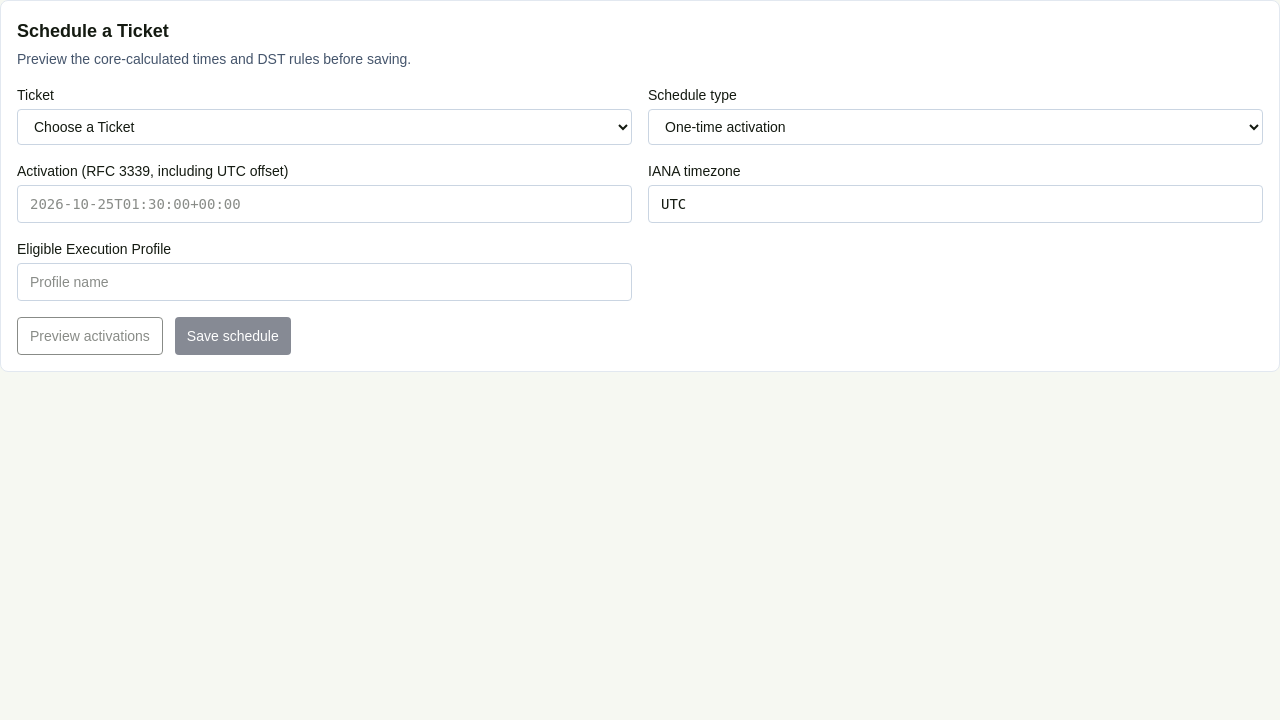
Test: schedule-editor › saves the previewed schedule with the current Ticket version
Select "CORE-T19 — Archive expired logs" in the dropdown with test id "schedule-ticket" at (324, 127), box x1=17 y1=109 x2=632 y2=145
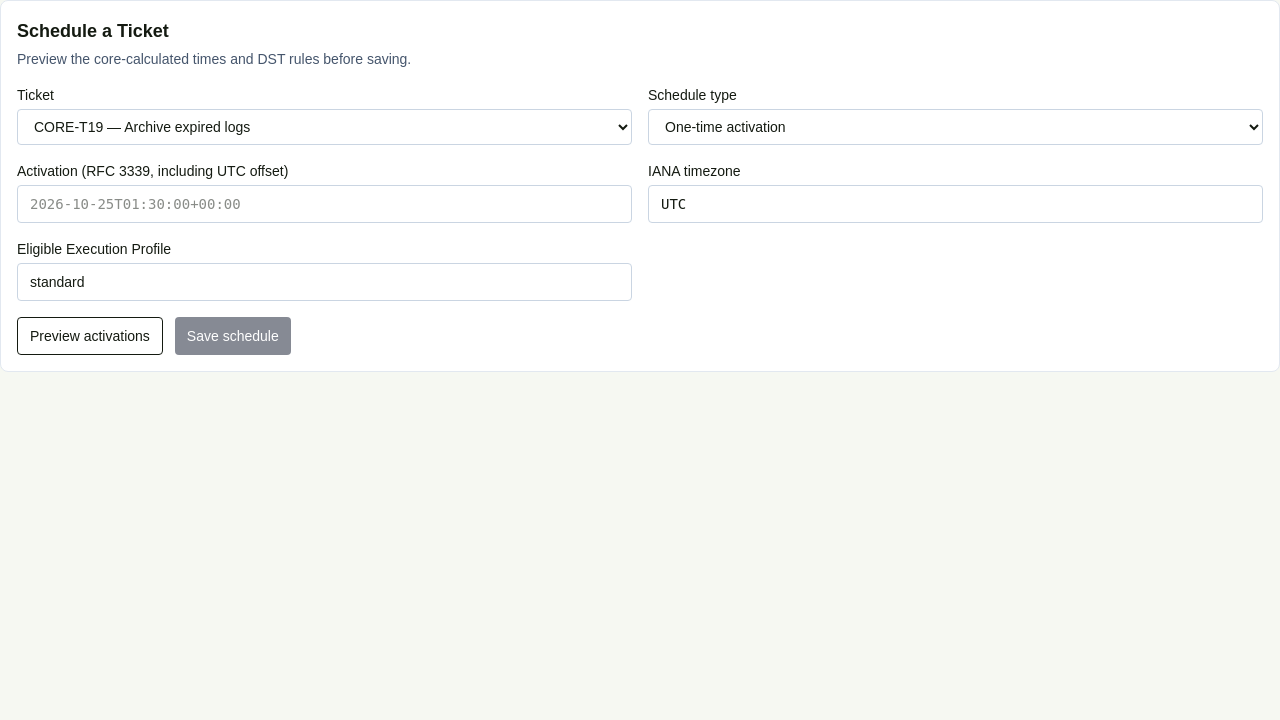
Select "Recurring Task" in the dropdown with test id "schedule-mode" at (956, 127), box x1=648 y1=109 x2=1263 y2=145
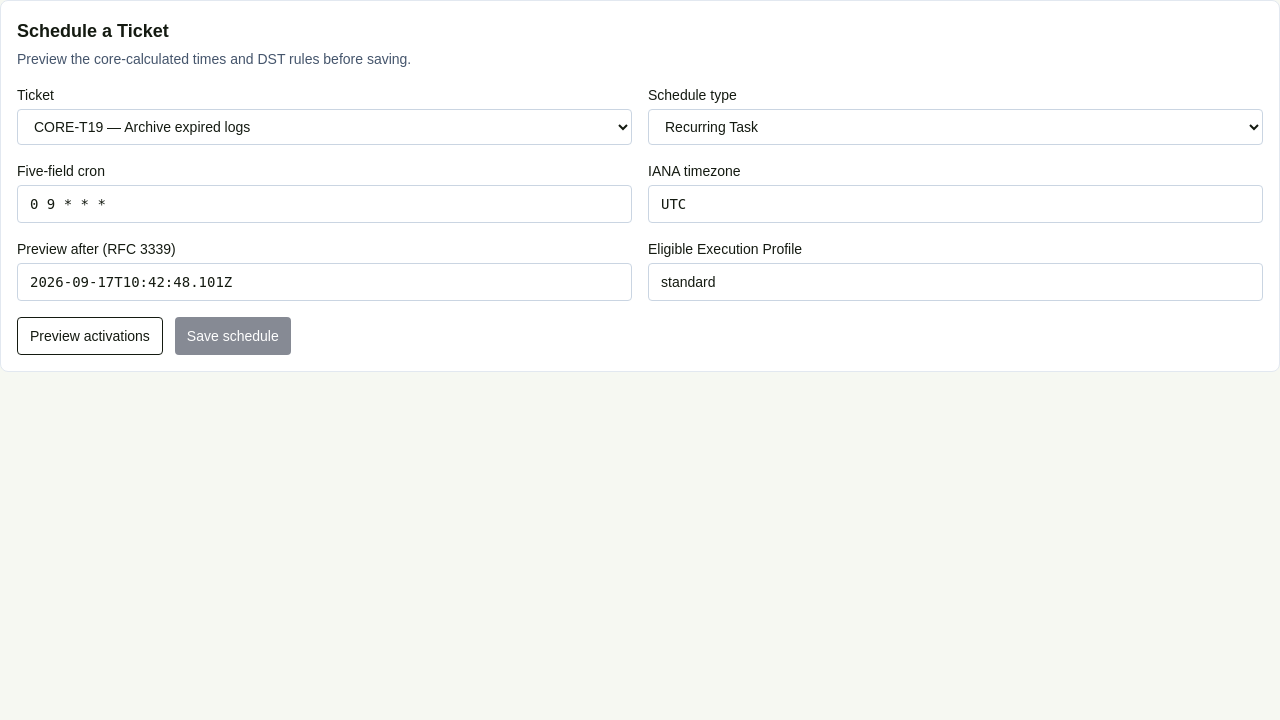
Type "30 1 * * *" into the field with test id "schedule-cron".
click(324, 204); type("30 1 * * *")  # box x1=17 y1=185 x2=632 y2=223
Replace the text in the field with test id "schedule-timezone" with "Europe/London" at (956, 204), box x1=648 y1=185 x2=1263 y2=223
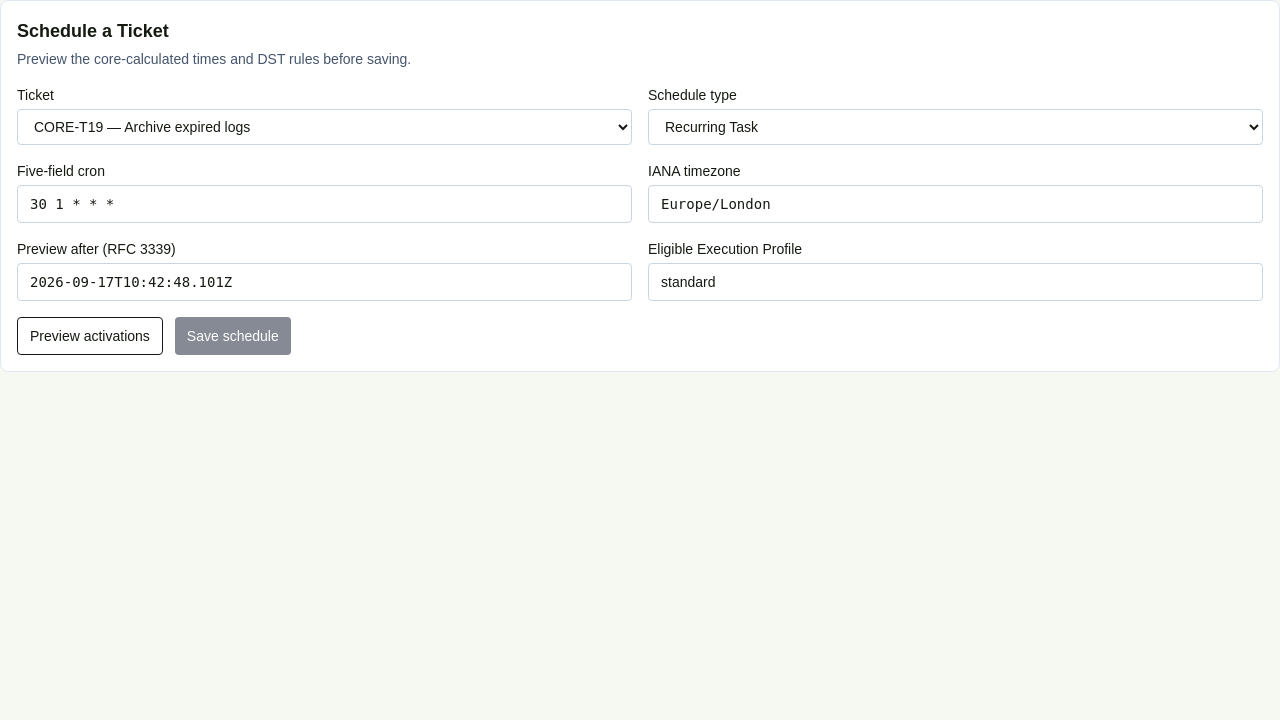
Replace the text in the field with test id "schedule-after" with "2026-03-28T23:00:00Z" at (324, 282), box x1=17 y1=263 x2=632 y2=301
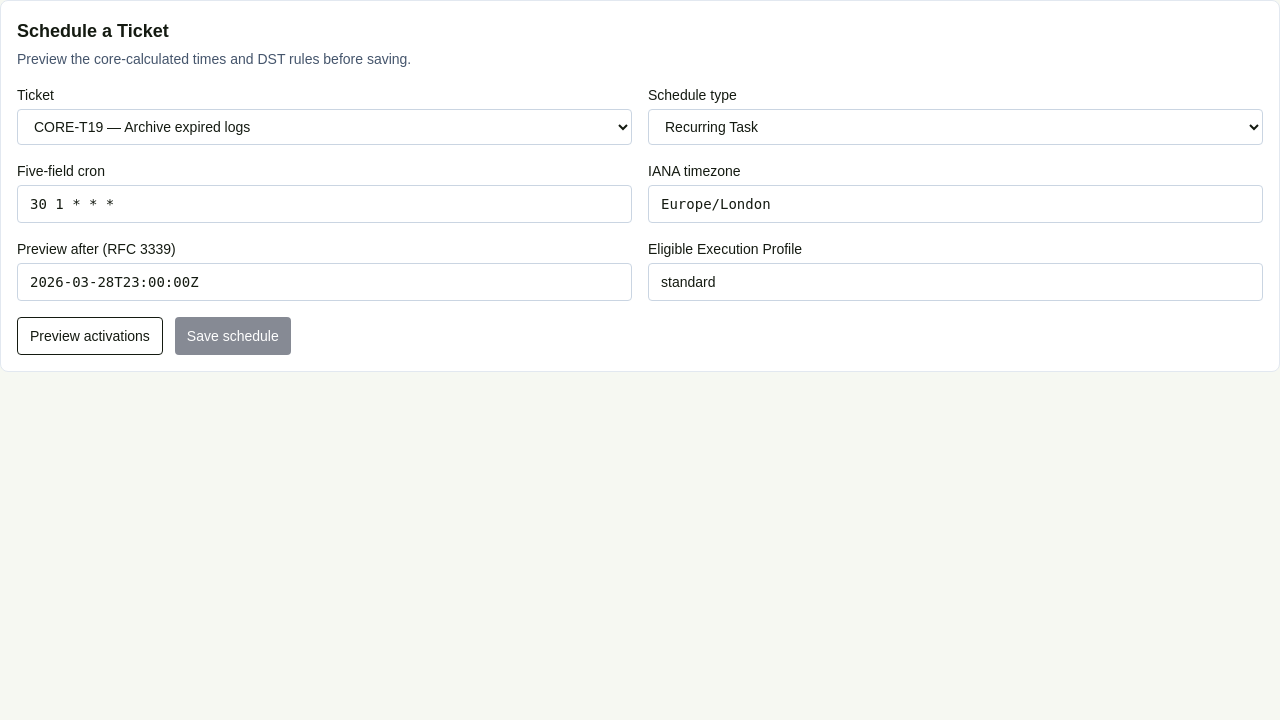
Click the button with test id "schedule-preview".
click(90, 336)  # box x1=17 y1=317 x2=163 y2=355
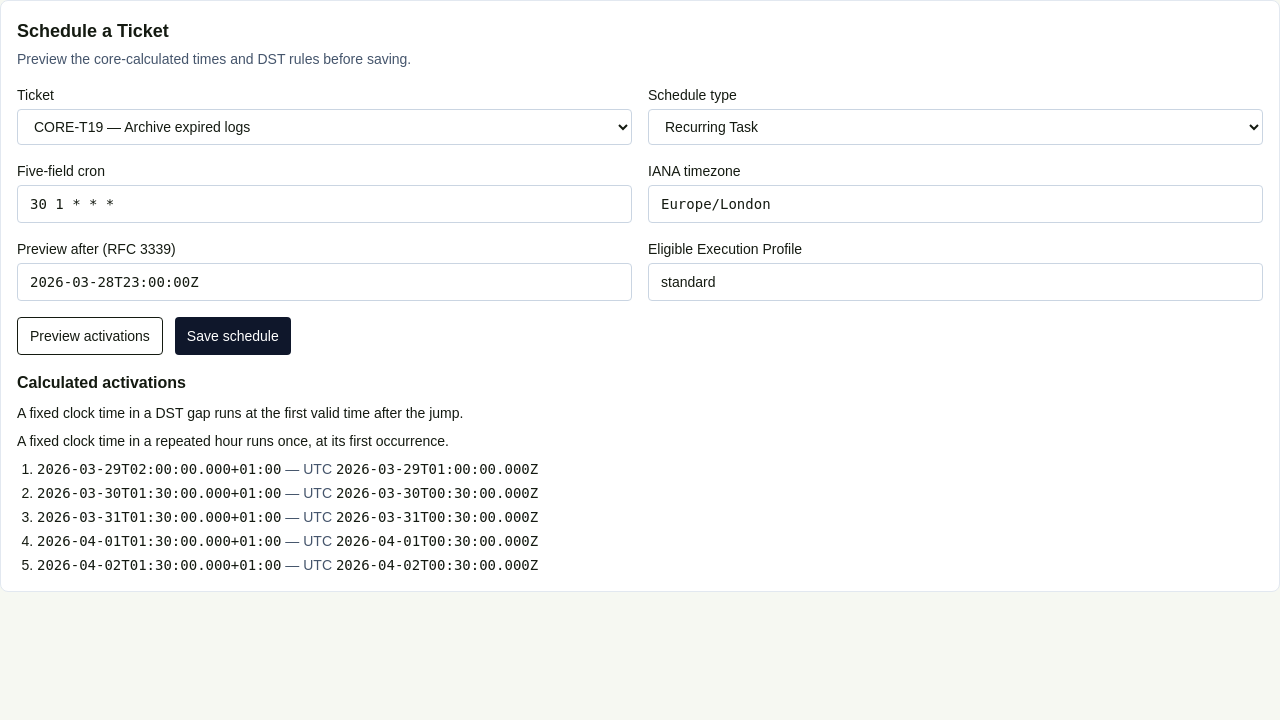
Now the button with test id "schedule-save" is enabled, box x1=175 y1=317 x2=291 y2=355
Submit the form with test id "schedule-form", box x1=17 y1=85 x2=1263 y2=355
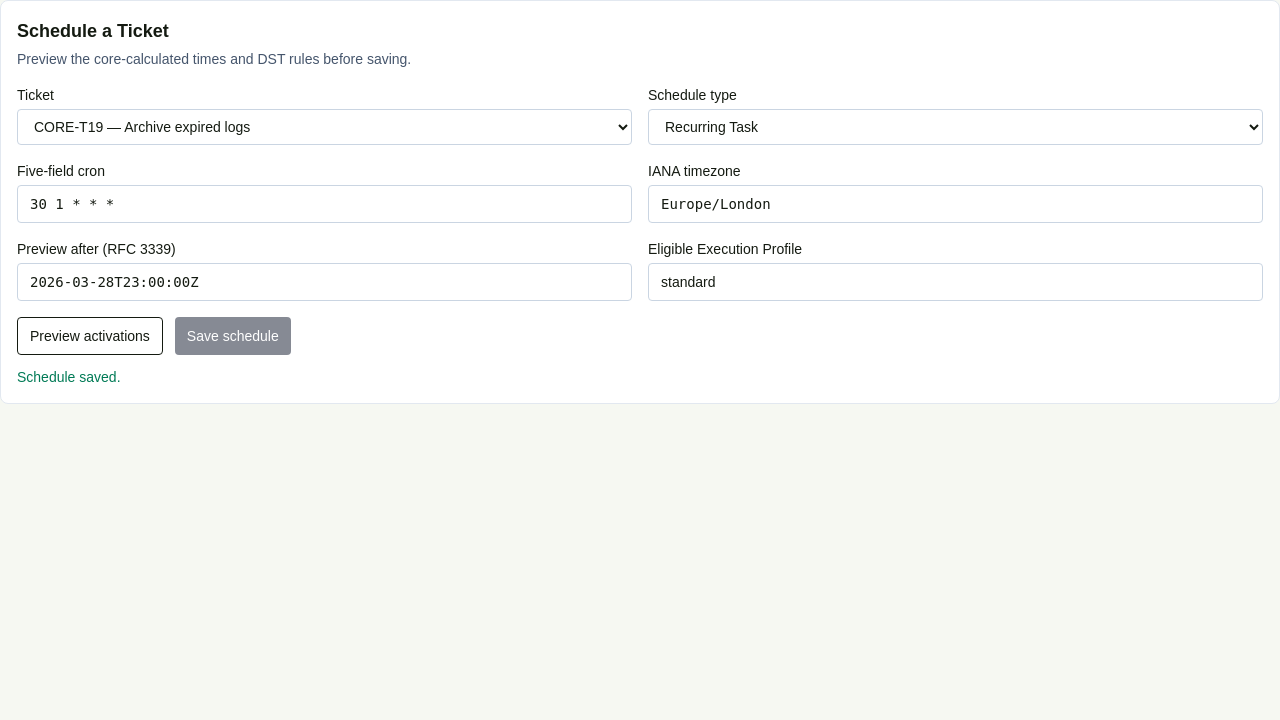
Now the text "Schedule saved" is shown, box x1=17 y1=369 x2=120 y2=385
